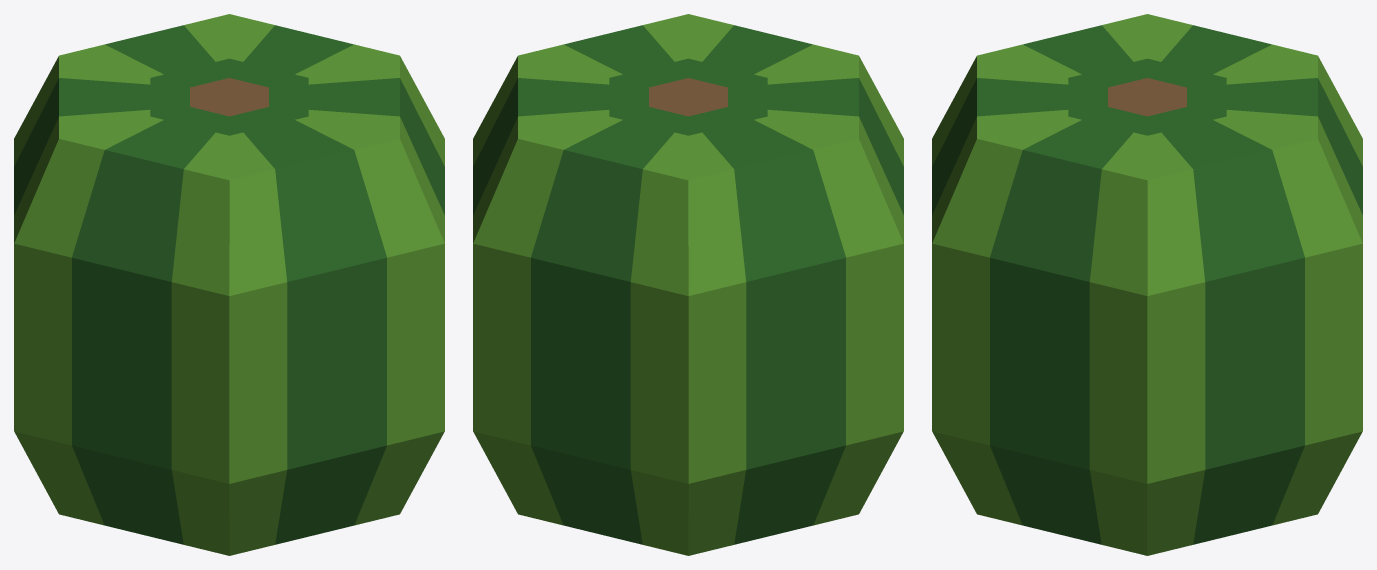
Rendered from crop_melon.glb.
The picture shows the model from 3 angles, left to right: view 1: azimuth 30°, elevation 25°; view 2: azimuth 150°, elevation 25°; view 3: azimuth 270°, elevation 25°; orthographic projection.
Visible parts, largest first — view 1: crop_melon; view 2: crop_melon; view 3: crop_melon.
Boxes of the visible parts, x1,y1,x2,y2 form: crop_melon: (14,14,444,555); crop_melon: (473,14,903,555); crop_melon: (932,14,1362,555).
Size of the model in its own units: 0.48 by 0.4 by 0.4157.
